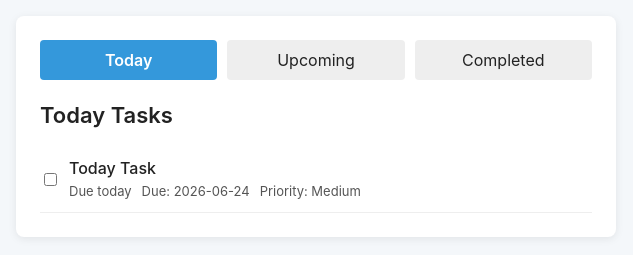
Test case: DashboardView › navigates to Upcoming and shows upcoming tasks
Click the button "Upcoming" at coordinates (316, 60), box [227,40,405,80]
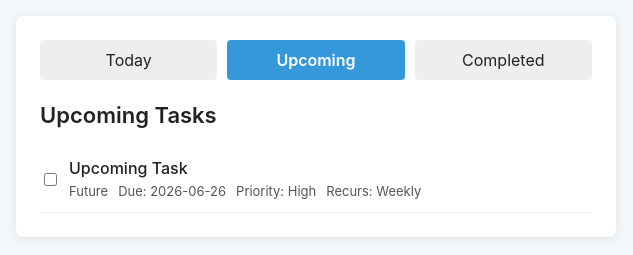
Now the heading "Upcoming Tasks" is shown, box [40,102,217,128]
Now the text "Upcoming Task" is shown, box [69,158,188,178]
Now the heading "Today Task" is gone
